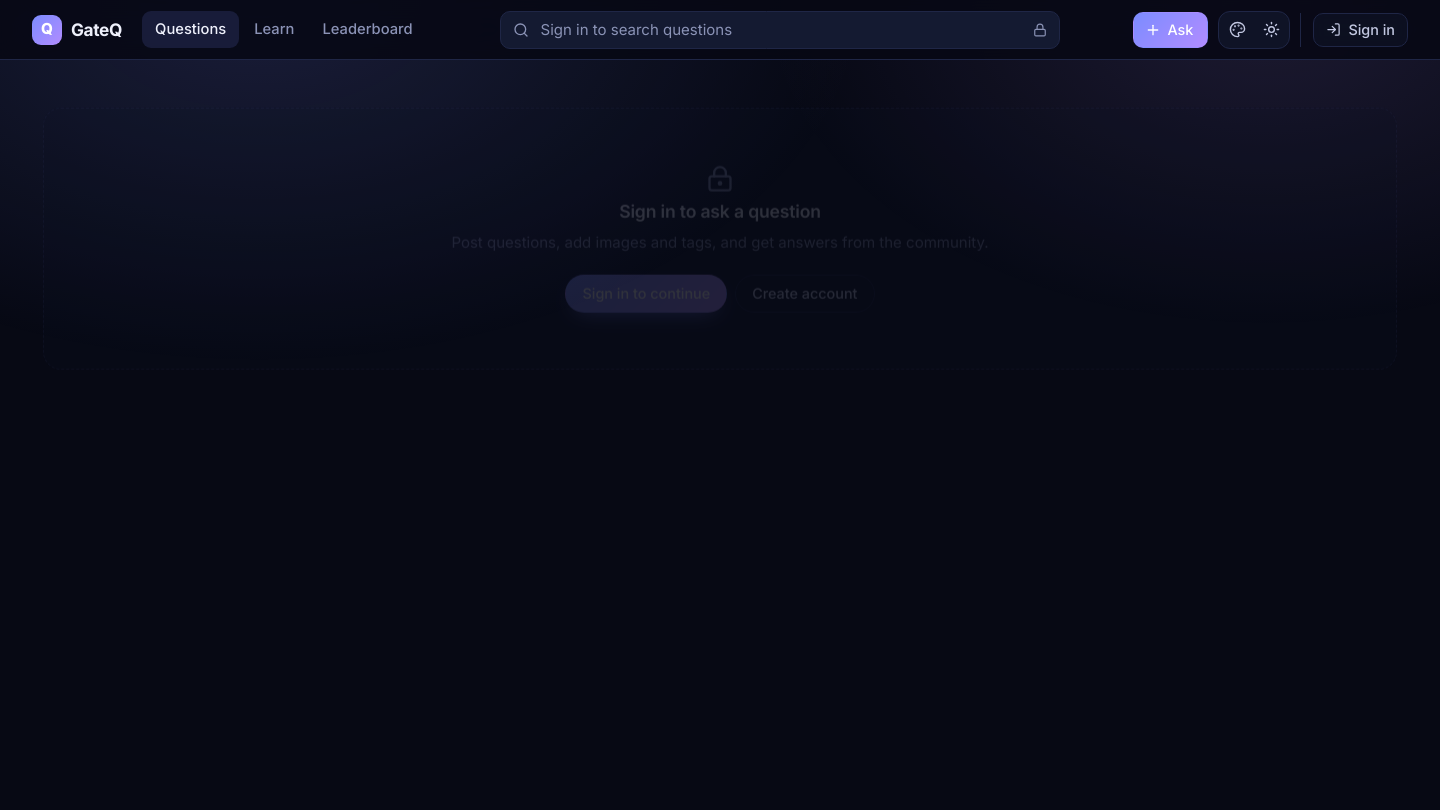
Test: GateQ › asks for sign-in before the ask form is shown
Expected: the heading "Sign in to ask a question" is shown, [619,201,821,223]
Click the button "Sign in to continue": coordinates (646, 294) [566,275,727,313]
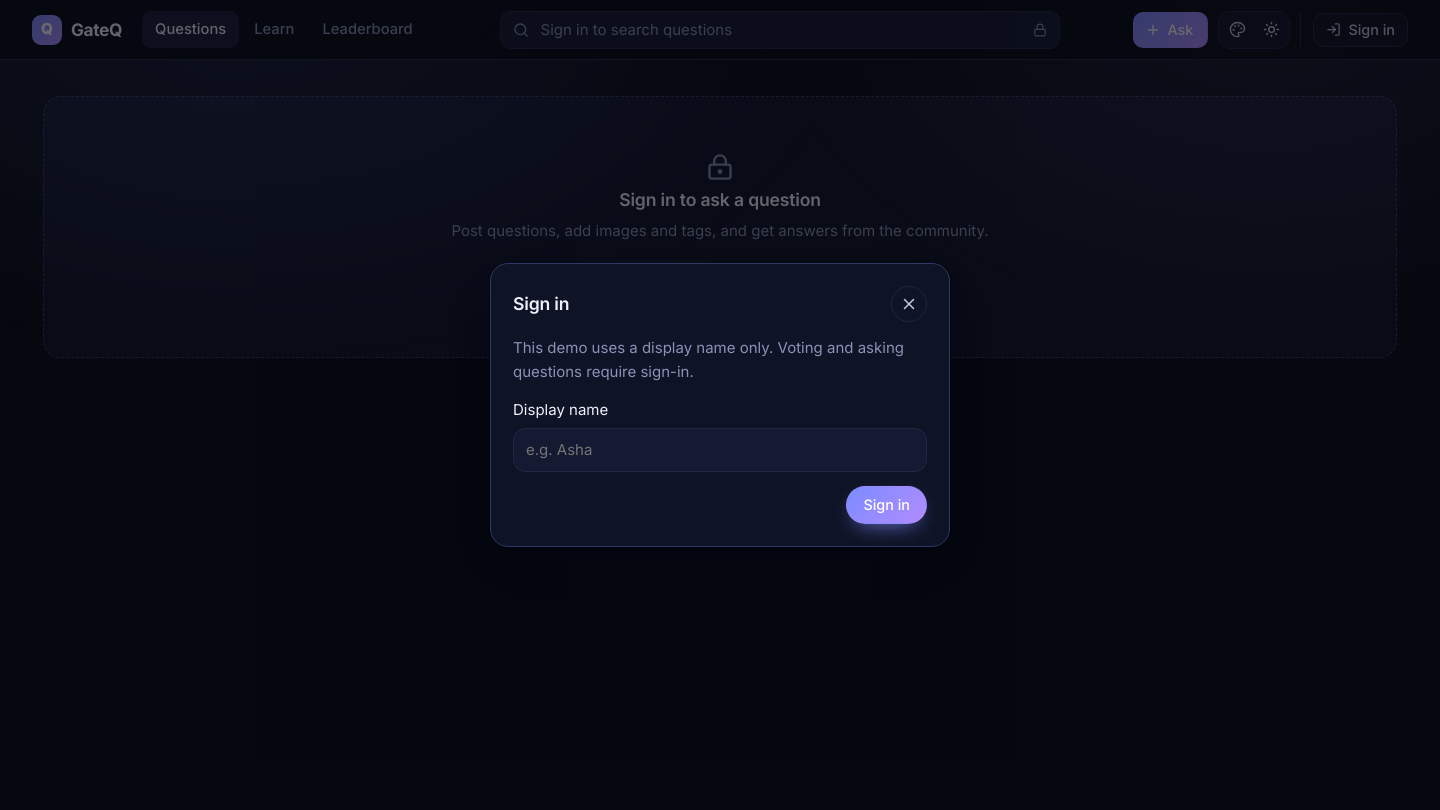
Now the dialog "Sign in" is shown, box [490,263,950,547]
